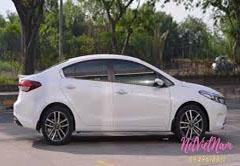car: (4, 44, 236, 160)
